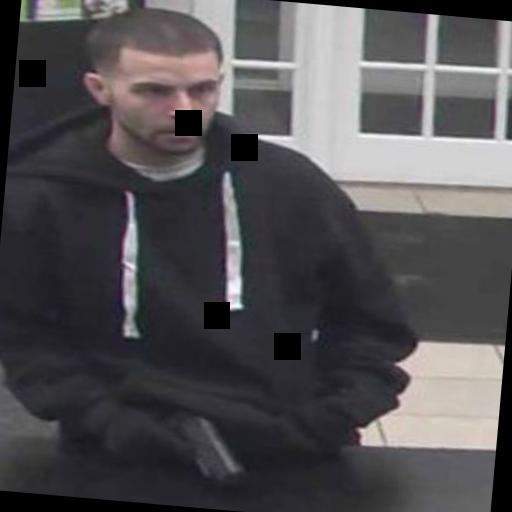Handgun: (140, 406, 253, 488)
